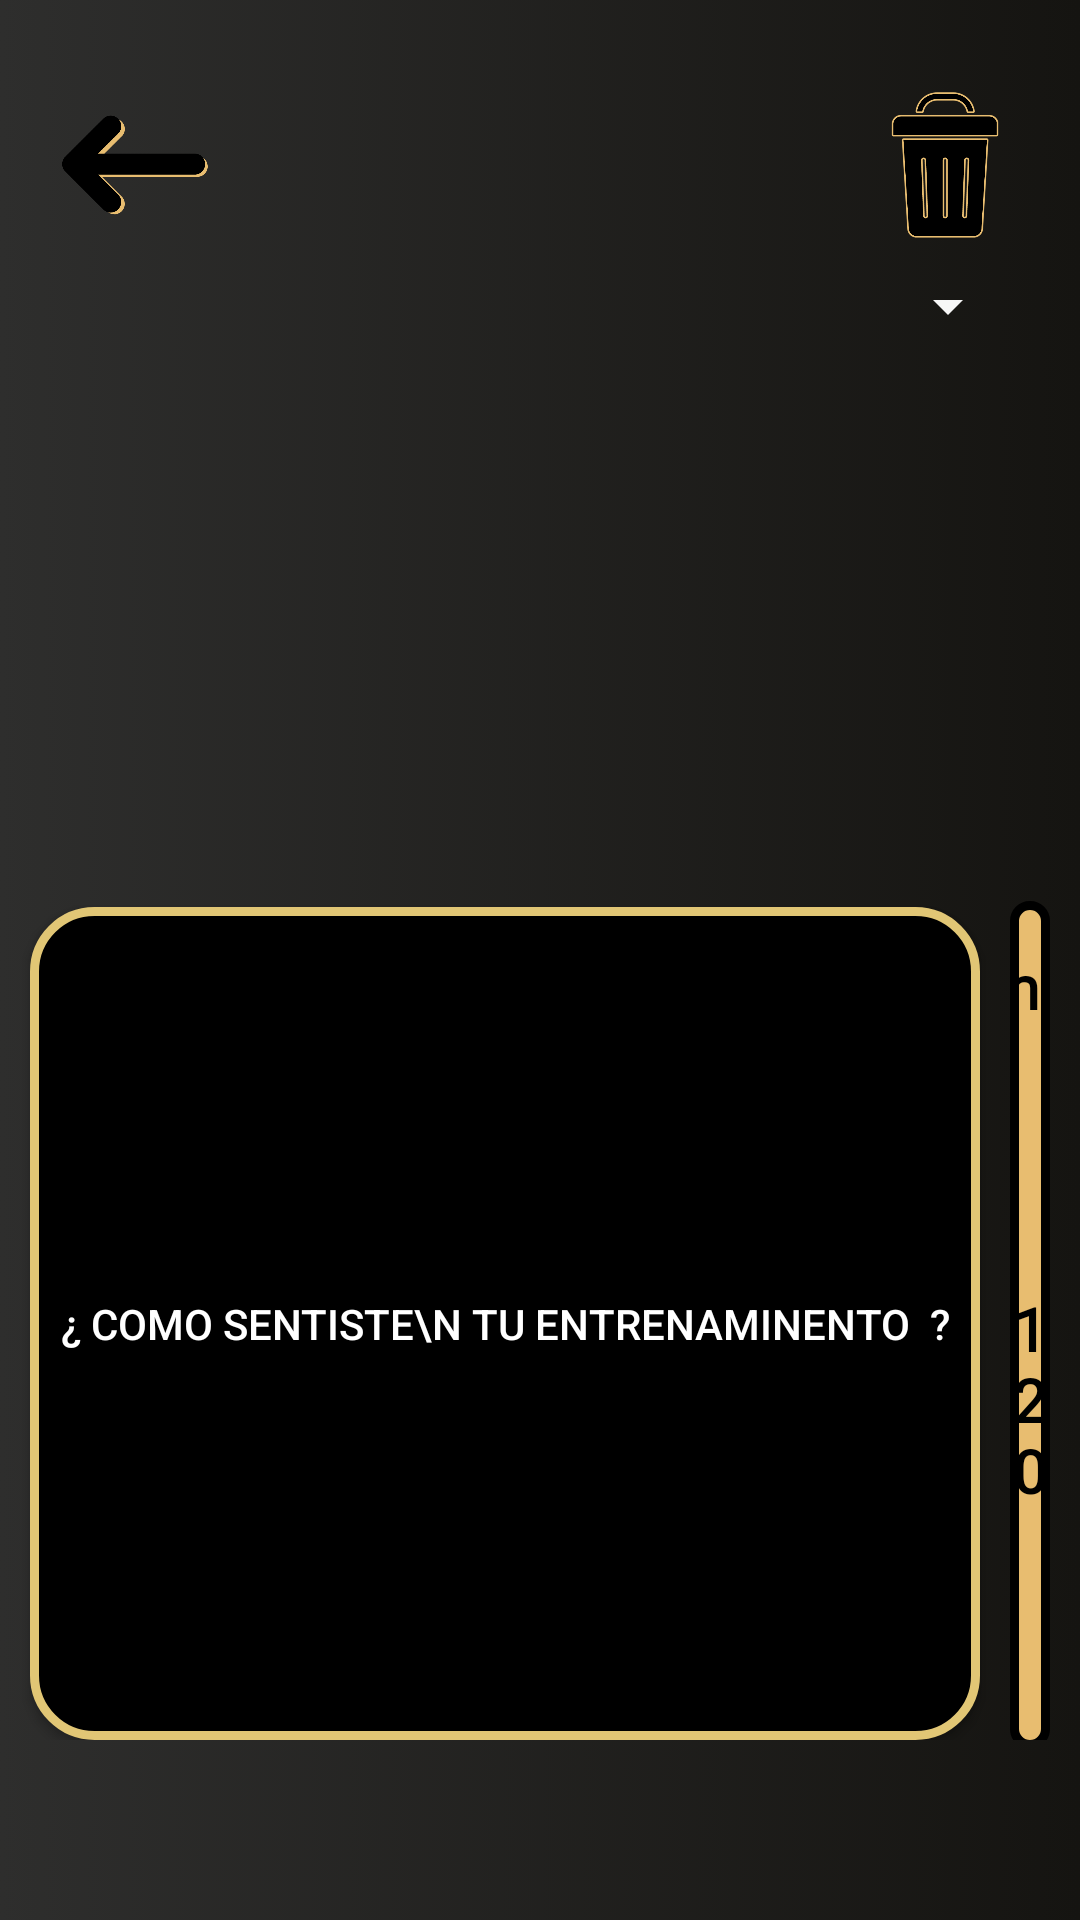

Icon click points for this 1080x1920 phone screenshot, format (x,y):
flechanegrodorado: (135,165)
trash: (945,165)
